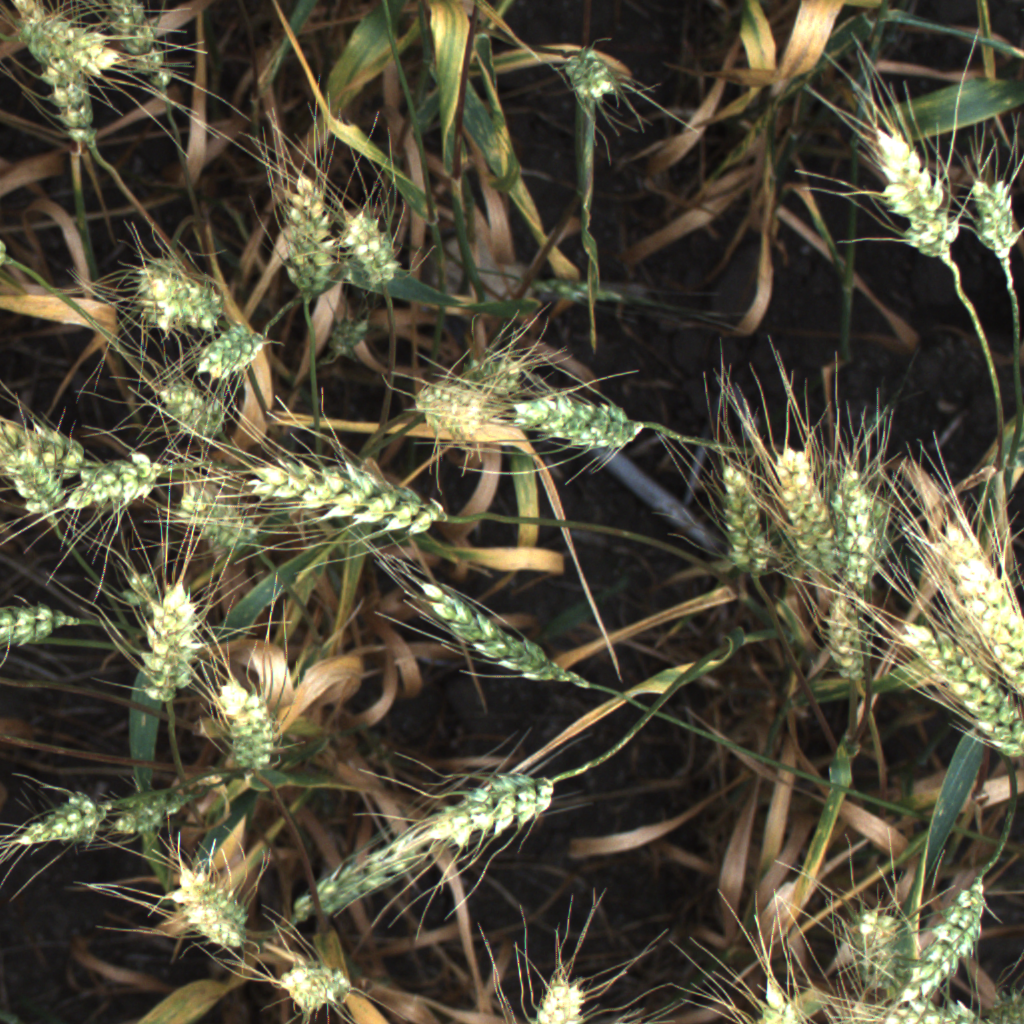wheat_head: (403, 567, 598, 698), (922, 491, 1024, 707), (232, 447, 450, 542), (894, 616, 1024, 761), (869, 119, 968, 274), (287, 819, 429, 927), (2, 1, 96, 162), (256, 154, 351, 311), (892, 867, 992, 1013), (766, 437, 846, 608), (503, 385, 652, 459), (418, 767, 554, 848), (161, 848, 264, 954), (403, 368, 531, 453), (131, 566, 204, 703), (59, 437, 177, 521), (710, 447, 776, 588), (124, 254, 233, 338), (0, 781, 110, 856), (336, 195, 416, 296), (211, 673, 278, 790), (105, 1, 187, 92), (837, 456, 891, 591), (150, 378, 251, 450), (179, 485, 270, 564), (15, 16, 136, 75), (844, 889, 915, 987), (545, 40, 635, 113), (186, 317, 274, 391), (0, 441, 68, 535), (969, 151, 1023, 269), (513, 963, 616, 1024), (109, 785, 202, 850), (453, 338, 546, 396), (824, 585, 873, 682), (842, 995, 1005, 1024), (18, 418, 92, 481), (738, 970, 823, 1024), (272, 966, 354, 1020), (0, 594, 67, 652)
